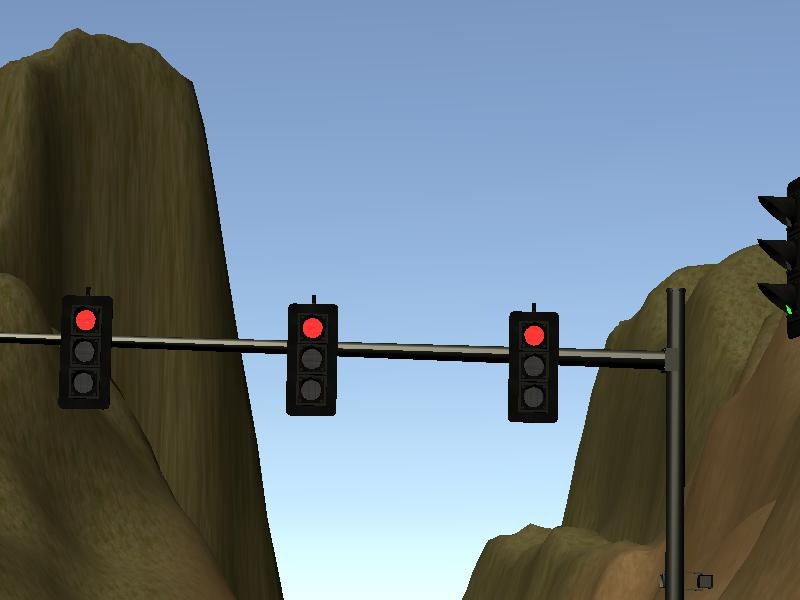RED: (284, 303, 336, 416), (508, 310, 560, 423), (60, 295, 112, 408)
